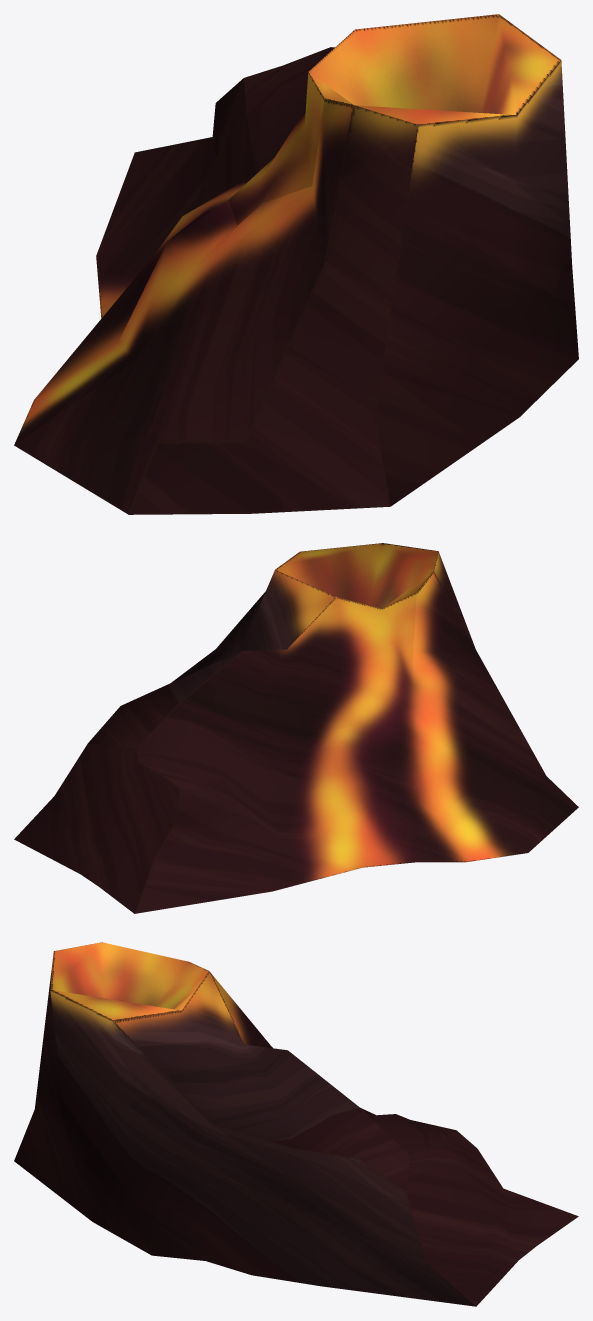
The model's file is Volcano.FBX.
3 renders of one model, top to bottom at view 1: azimuth 30°, elevation 25°; view 2: azimuth 150°, elevation 25°; view 3: azimuth 270°, elevation 25°, orthographic. The views are drawn at different scales.
Visible parts, largest first — view 1: Volcano; view 2: Volcano; view 3: Volcano.
Part boxes in pixels (box(x1,y1,x2,y2)): Volcano: box(14, 14, 578, 514); Volcano: box(14, 543, 578, 913); Volcano: box(14, 942, 578, 1306).
Bounding box in the file's own units: 179 × 88.22 × 198.
1 material, 1 textured.
